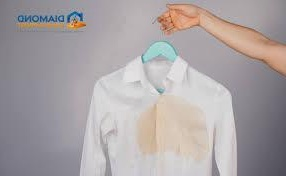coffee: (142, 108, 199, 151)
